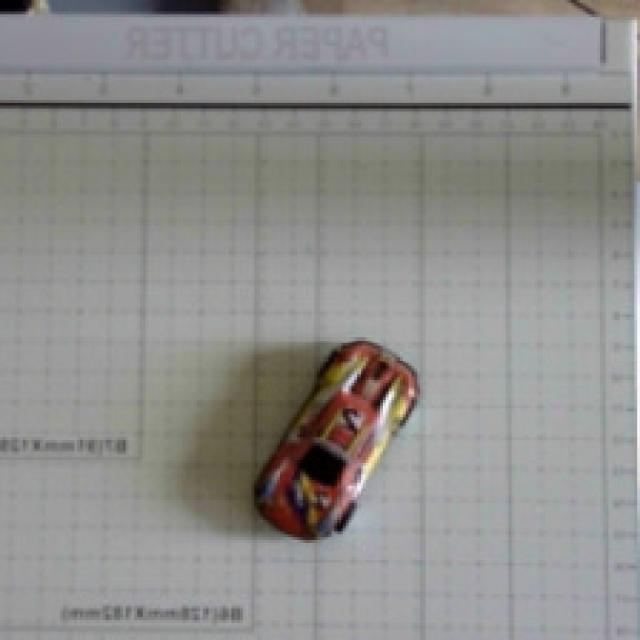Red Car: (235, 326, 444, 578)
